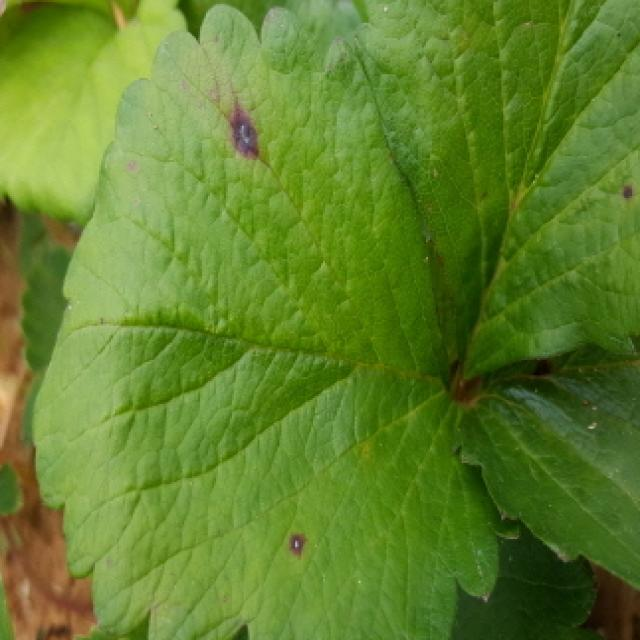Leaf Spot: (32, 4, 500, 640), (353, 0, 640, 388), (457, 346, 640, 594)
